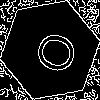O: (25, 25, 79, 78)
